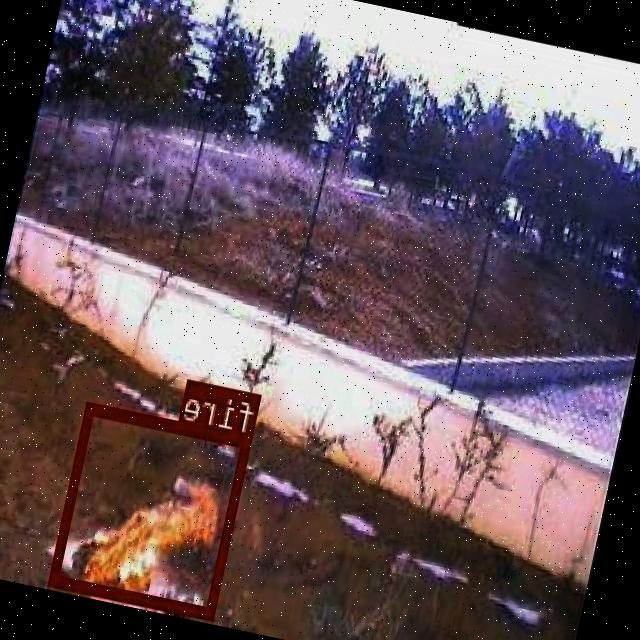fire: (51, 400, 254, 618)
